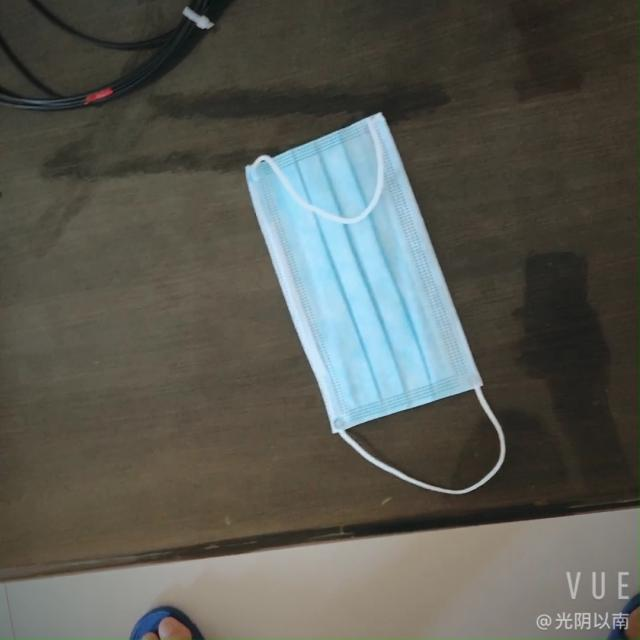non-organic waste: (242, 114, 492, 449)
